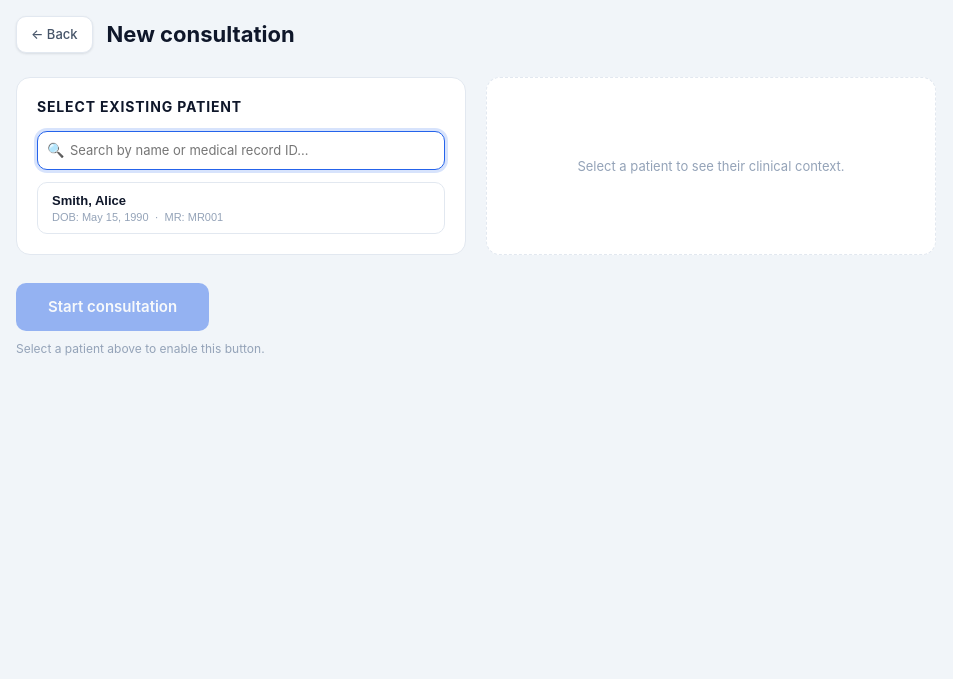
Test: 2. consent gate appears after patient selection › 2a. consent checkbox is shown after a patient is selected
Click the text "Smith, Alice". click: {"x": 89, "y": 201}
box: [52,193,126,208]
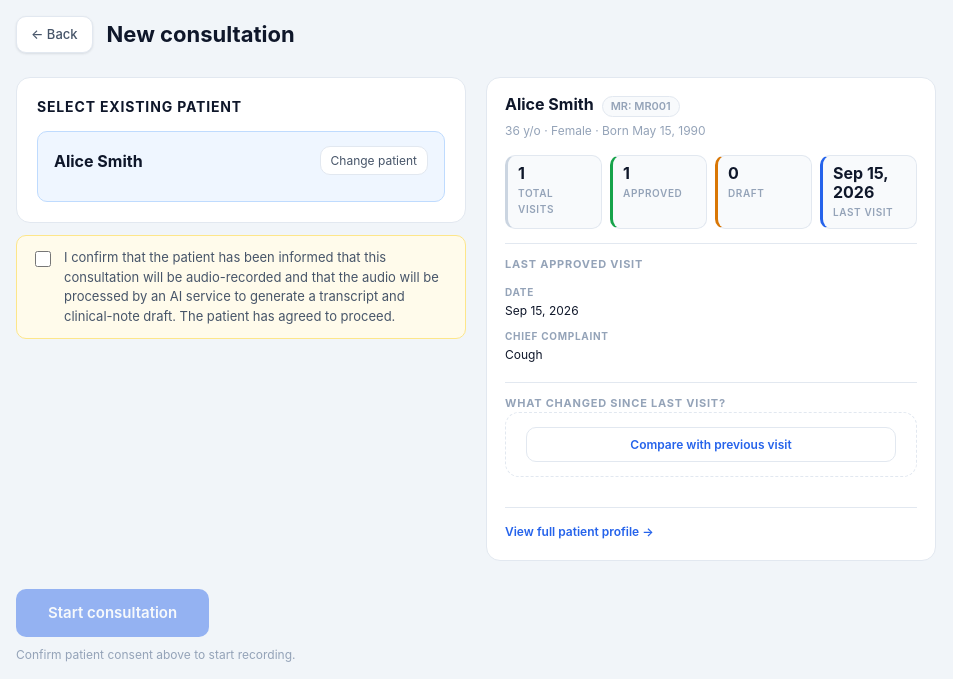
Now the heading "Alice Smith" below "Select existing patient" is shown, box [54,151,143,171]
Now the checkbox named "I confirm the patient has consented to recording and AI proc" is shown, box [35,252,51,268]
